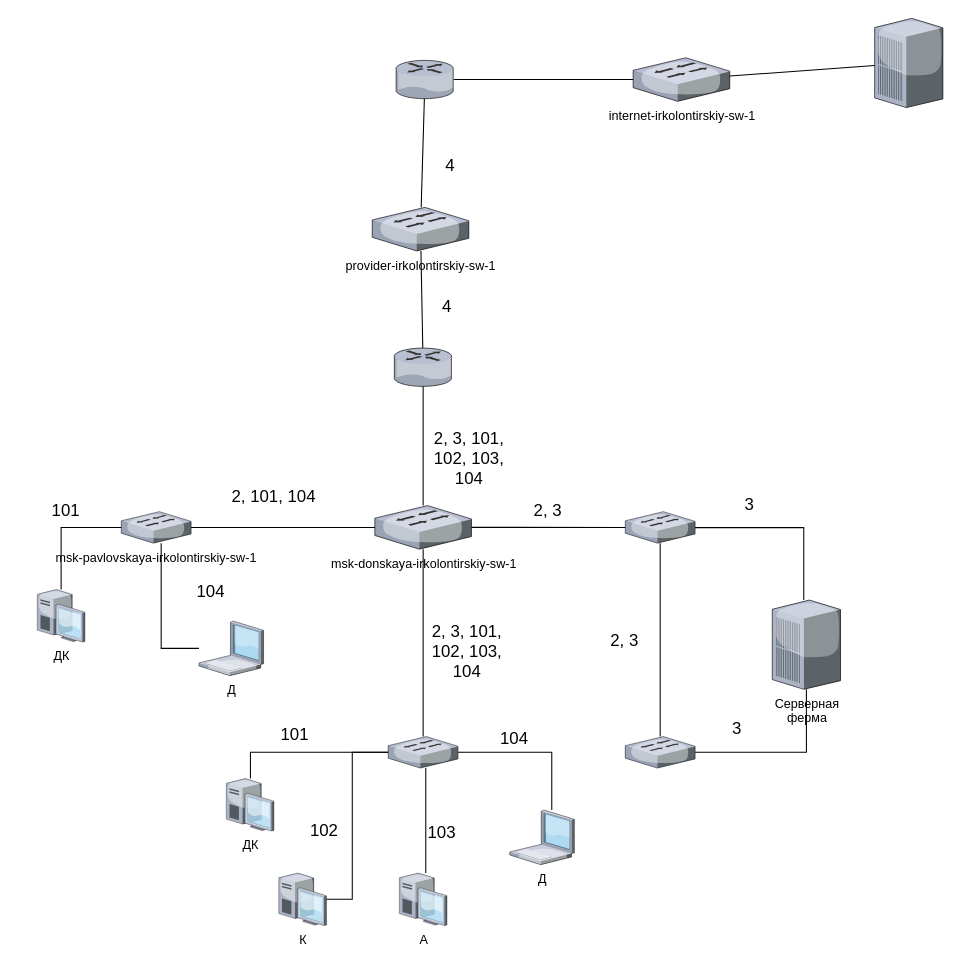
Image size: 961x965. Some labels were removed from this diagram. The shapes that lost their labels are listed below. From the top down, each one's centre as x and y in pixels, then its label:
At [424,79]: "provider-irkolontirskiy-gw-1".
At [908,62]: "internet".
At [423,367]: "msk-donskaya-irkolontirskiy-gw-1".
At [660,527]: "msk-donskaya-irkolontirskiy-sw-2".
At [422,752]: "msk-donskaya-irkolontirskiy-sw-4".
At [660,752]: "msk-donskaya-irkolontirskiy-sw-3".
